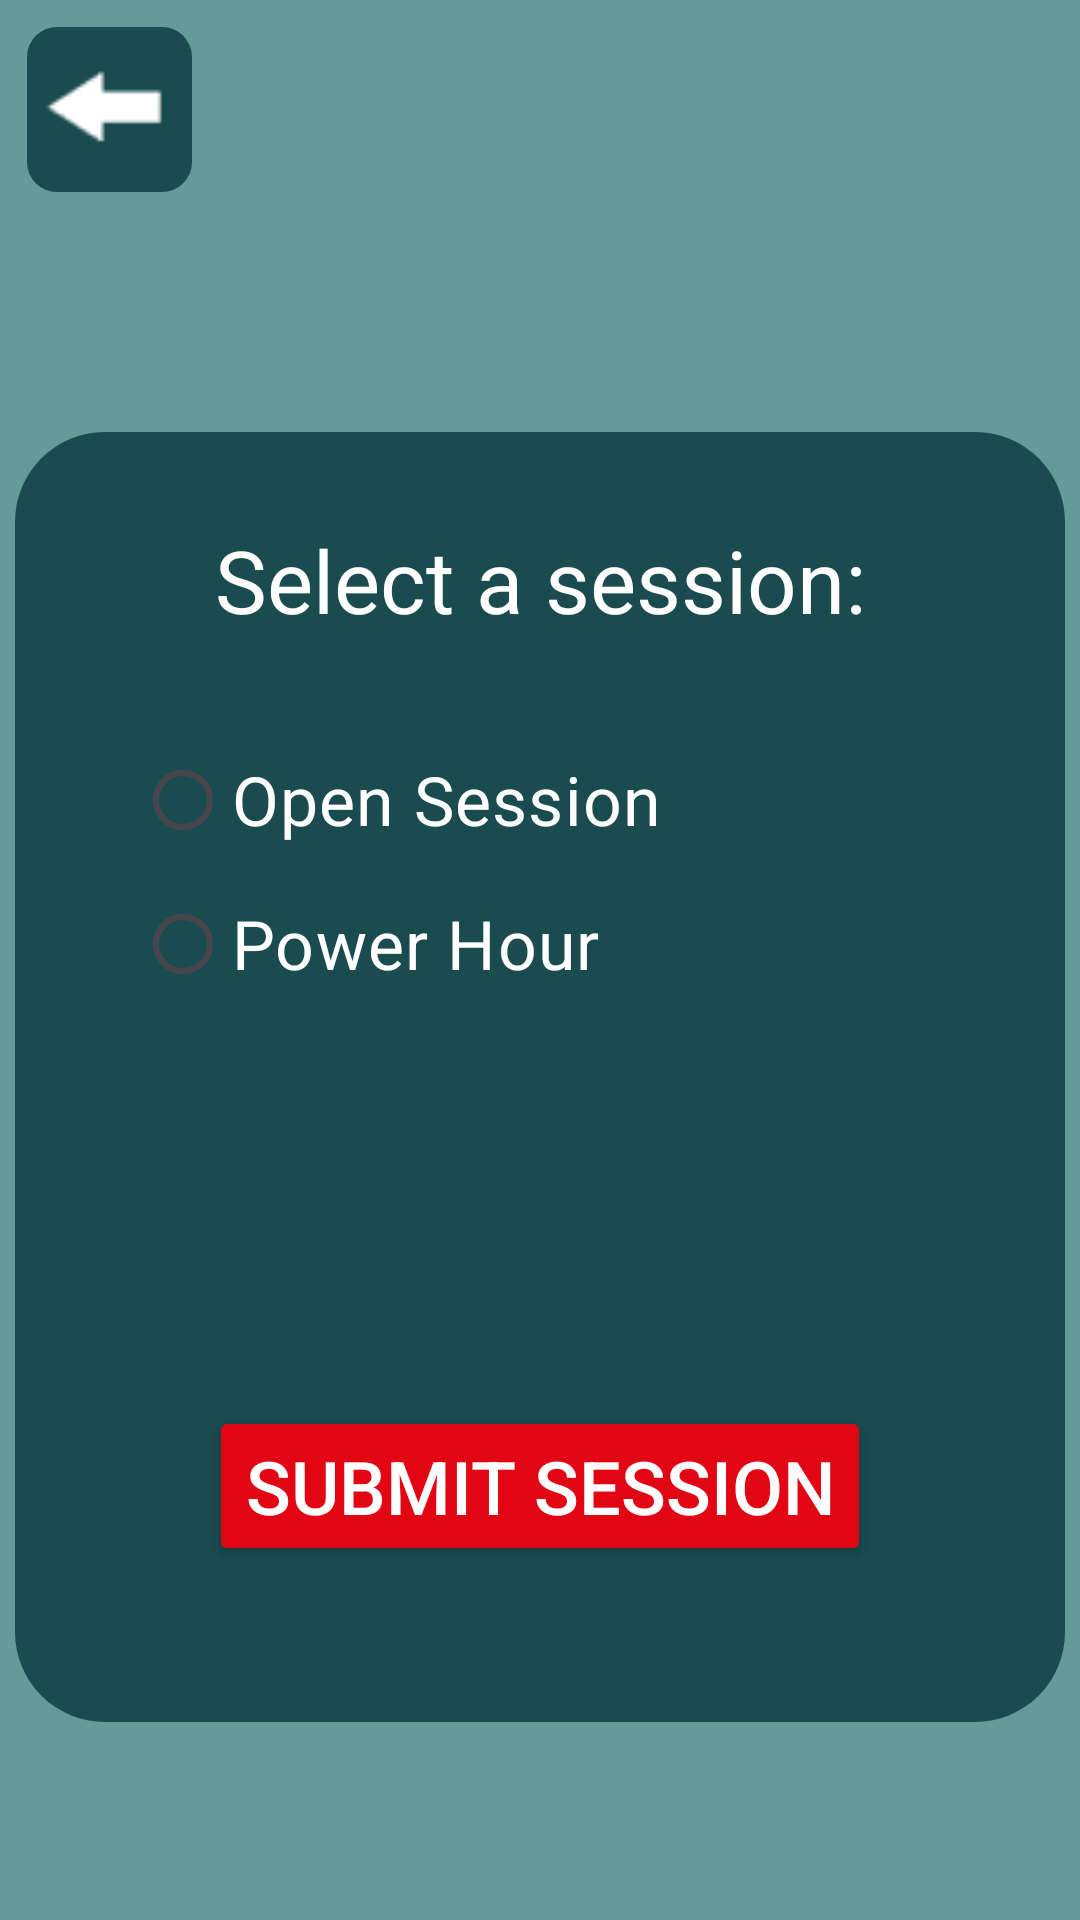

Named icons in this screenshot (1080px x 1920px) and their bounding boxes, (x1, y1, x2, y2):
go back: (27, 27, 192, 192)
